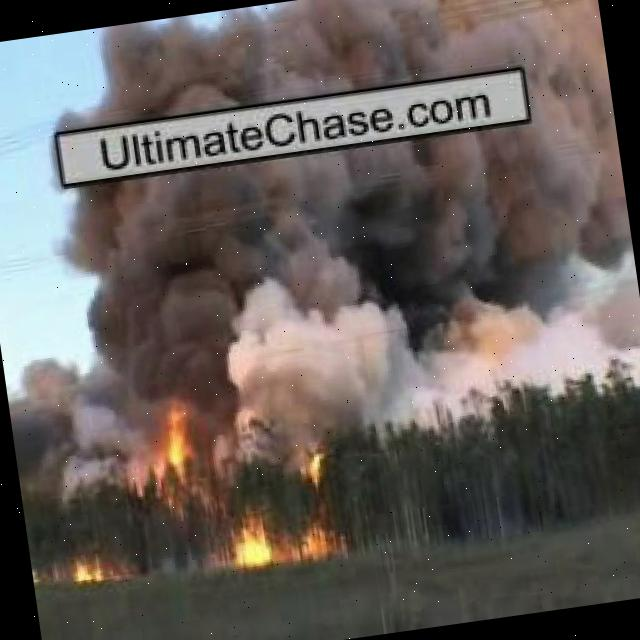fire: (274, 442, 344, 558), (156, 396, 198, 480), (231, 502, 274, 570), (70, 552, 106, 584)
